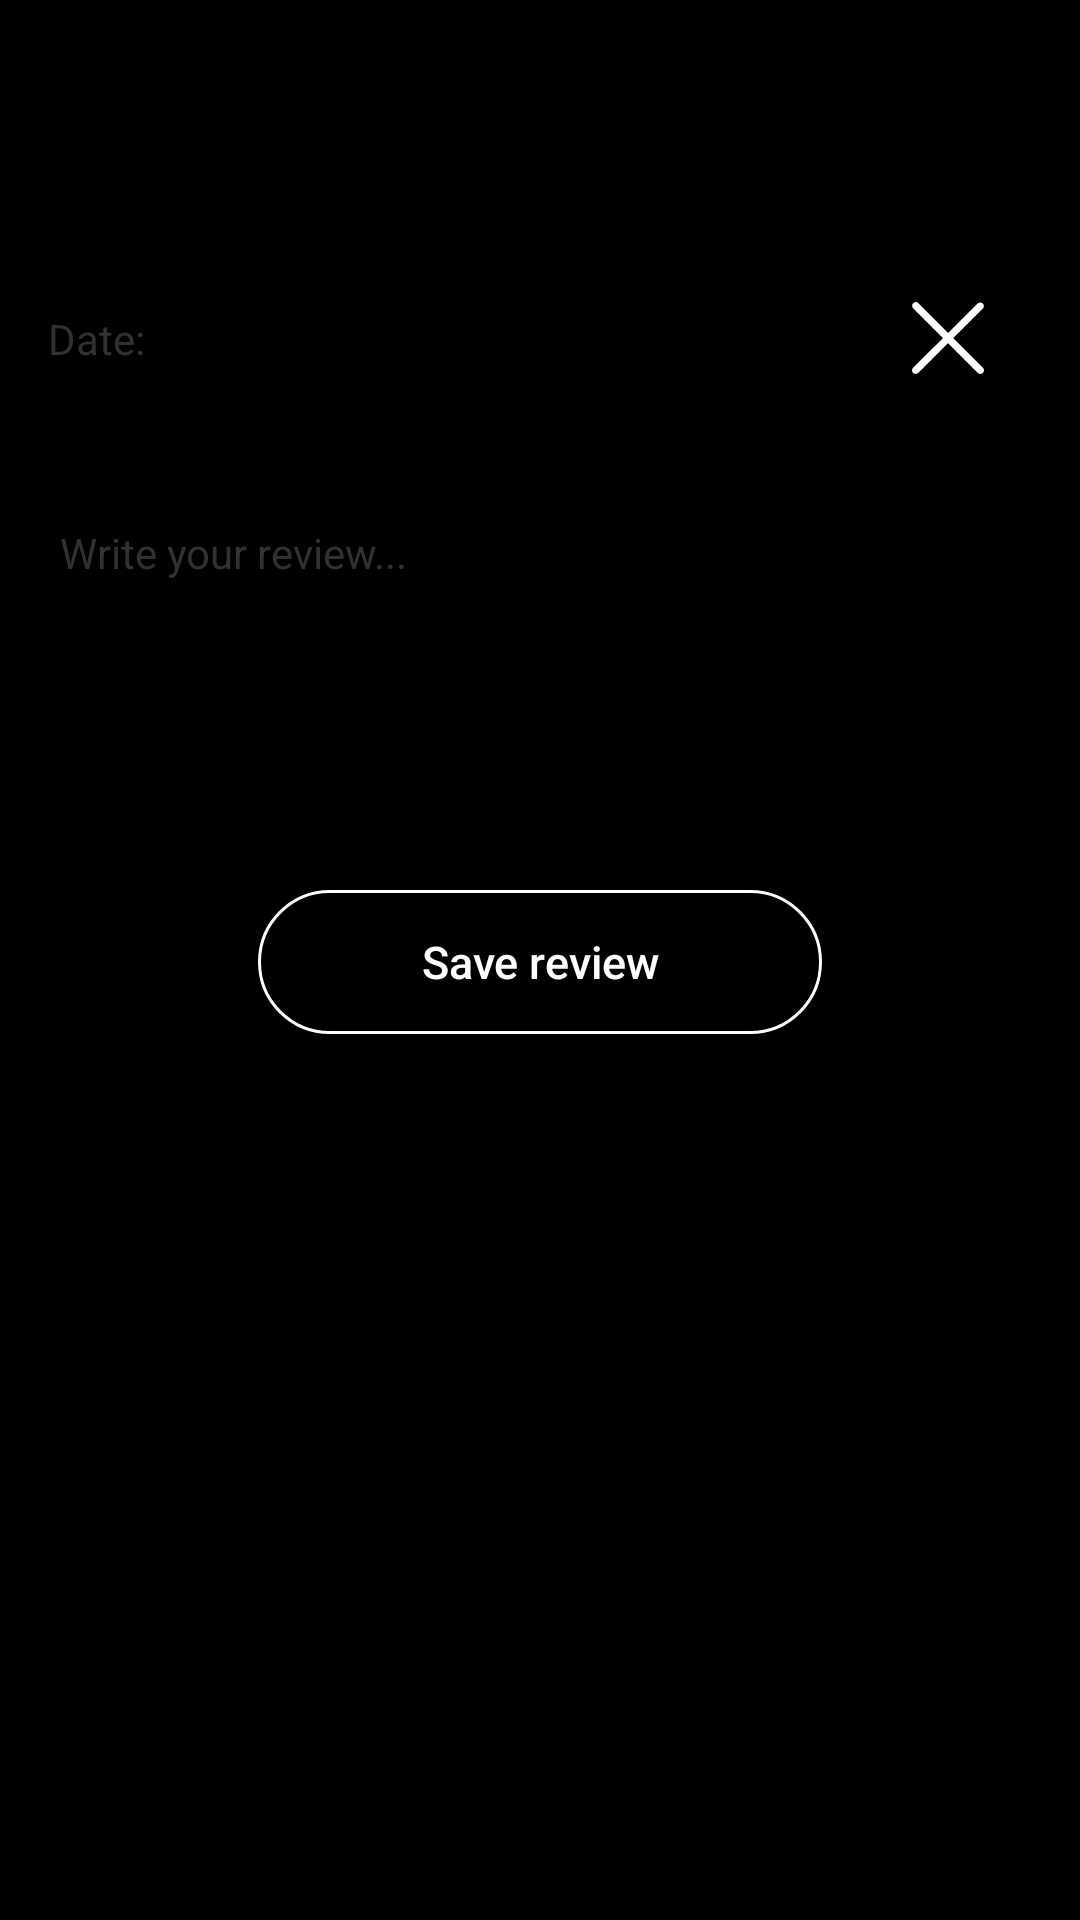

Icons on this 1080x1920 Android screen, each with its box as (x1, y1, x2, y2):
cancel: (912, 302, 984, 374)
